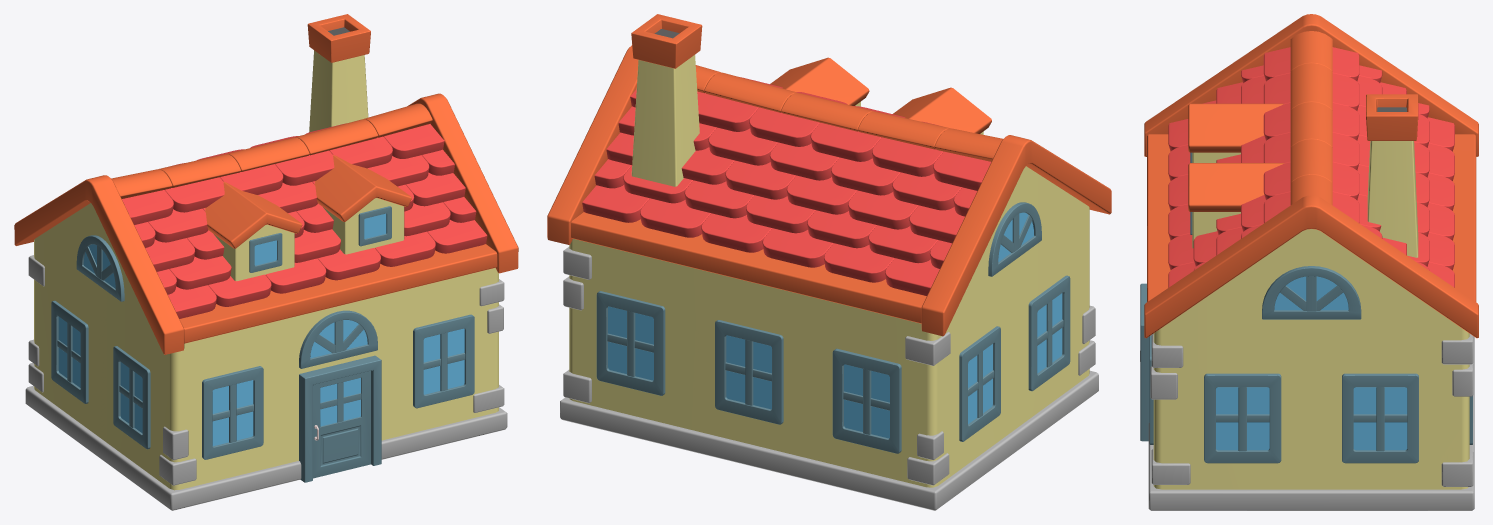
File: Town_17_House_1.glb
3 renders of one model, left to right at view 1: azimuth 30°, elevation 25°; view 2: azimuth 150°, elevation 25°; view 3: azimuth 270°, elevation 25°, orthographic. The views are drawn at different scales.
Parts seen in each view (by area): view 1: Town_17_House_1; view 2: Town_17_House_1; view 3: Town_17_House_1.
Boxes of the visible parts, x1=… form: Town_17_House_1: x1=14, y1=14, x2=518, y2=510; Town_17_House_1: x1=547, y1=14, x2=1111, y2=510; Town_17_House_1: x1=1140, y1=14, x2=1478, y2=510.
Bounding box in the file's own units: 8.54 × 7.75 × 6.35.
Materials: 1 (1 with a texture image).
